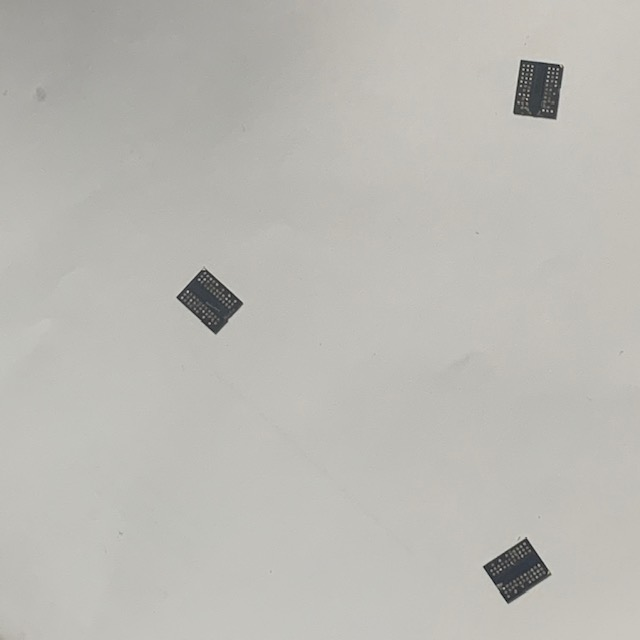IC: (480, 531, 555, 606), (174, 265, 245, 336), (510, 58, 565, 121)
